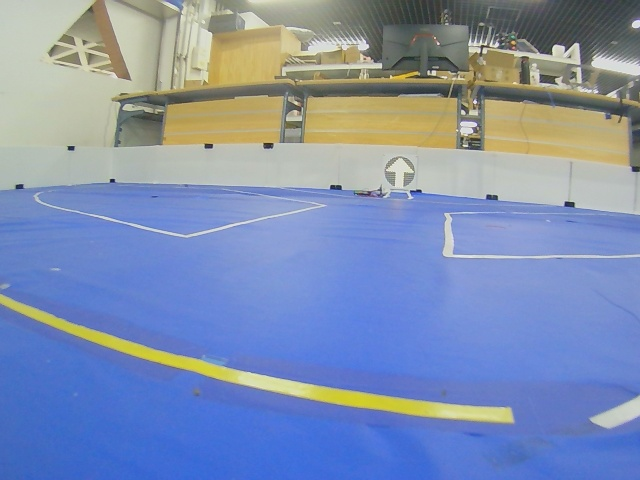straight_yellow: (384, 155, 417, 190)
